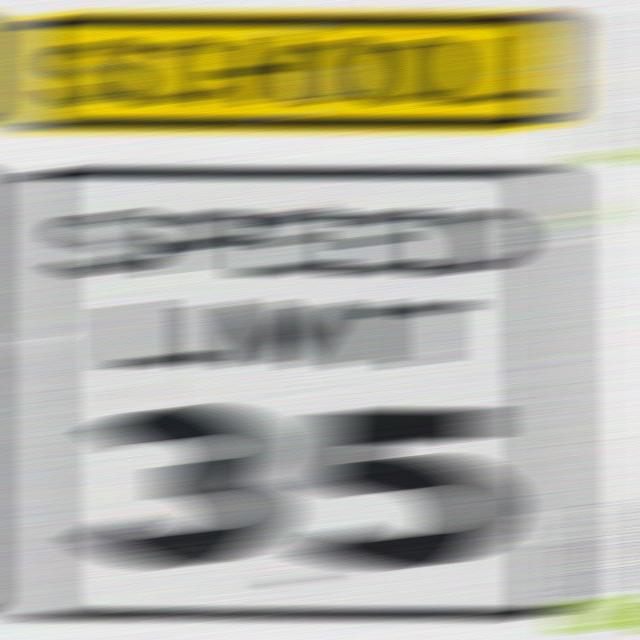speedLimit35: (8, 171, 576, 612)
